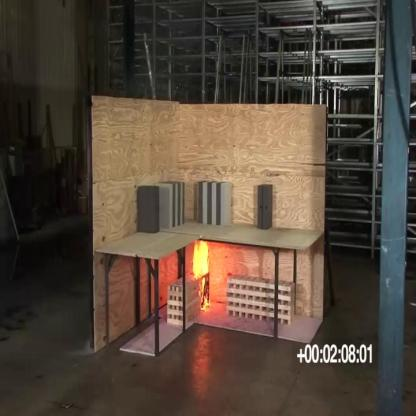fire: (192, 240, 212, 314)
